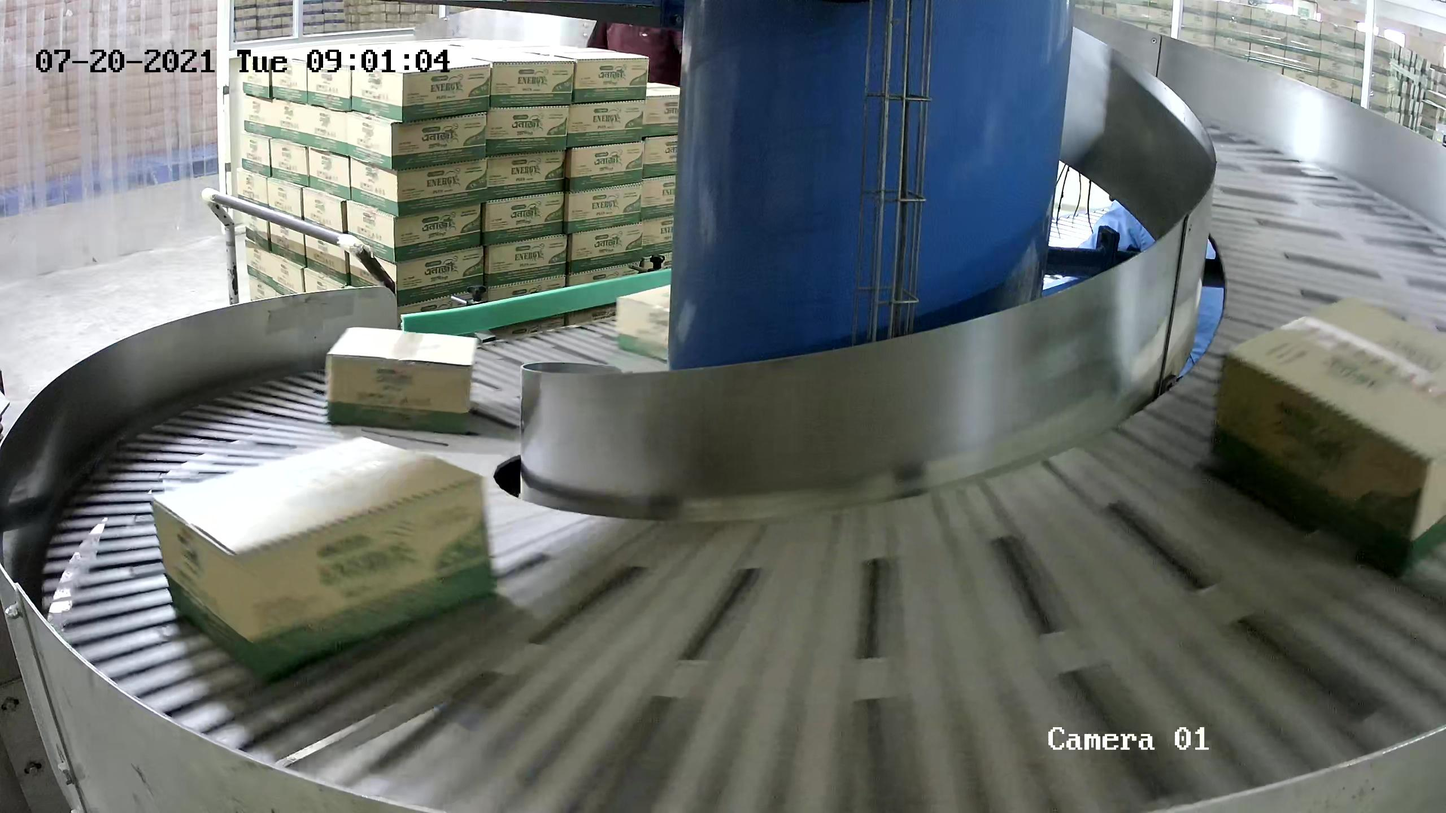Box: (148, 434, 498, 681), (1208, 293, 1446, 584), (325, 326, 480, 434), (615, 283, 671, 361)
